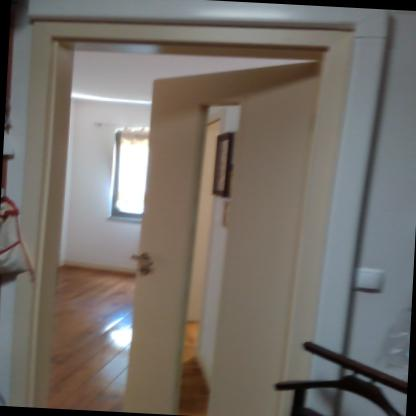semi: (4, 12, 329, 415)
